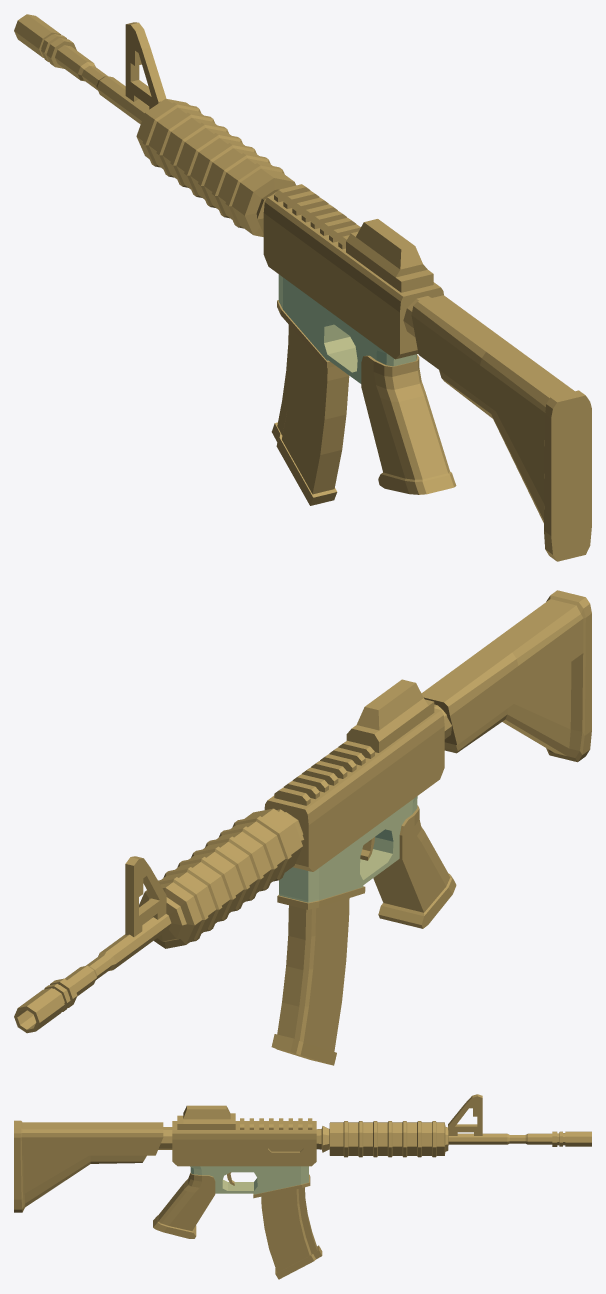
Rendered from protocol.glb.
The picture shows the model from 3 angles, top to bottom: view 1: azimuth 30°, elevation 25°; view 2: azimuth 150°, elevation 25°; view 3: azimuth 270°, elevation 25°; orthographic projection. The views are drawn at different scales.
Visible parts, largest first — view 1: RIVALS-rifle; view 2: RIVALS-rifle; view 3: RIVALS-rifle.
Part boxes in pixels (<box>): RIVALS-rifle: <box>14,14,591,561</box>; RIVALS-rifle: <box>14,590,591,1065</box>; RIVALS-rifle: <box>14,1094,591,1279</box>.
Size of the model in its own units: 0.1776 by 0.918 by 2.65.
